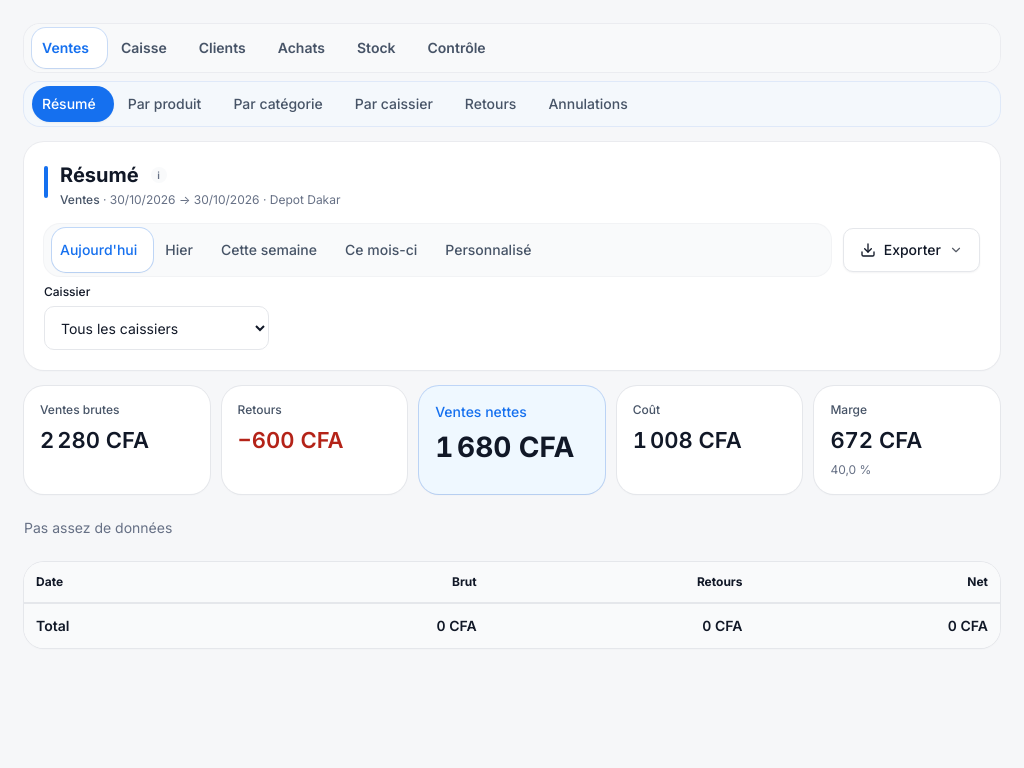
Test case: ReportsPage › labels customer outstanding as a global pooled balance when a depot is selected
Click the tab "Clients".
click(222, 48)  # box [185,28,260,68]
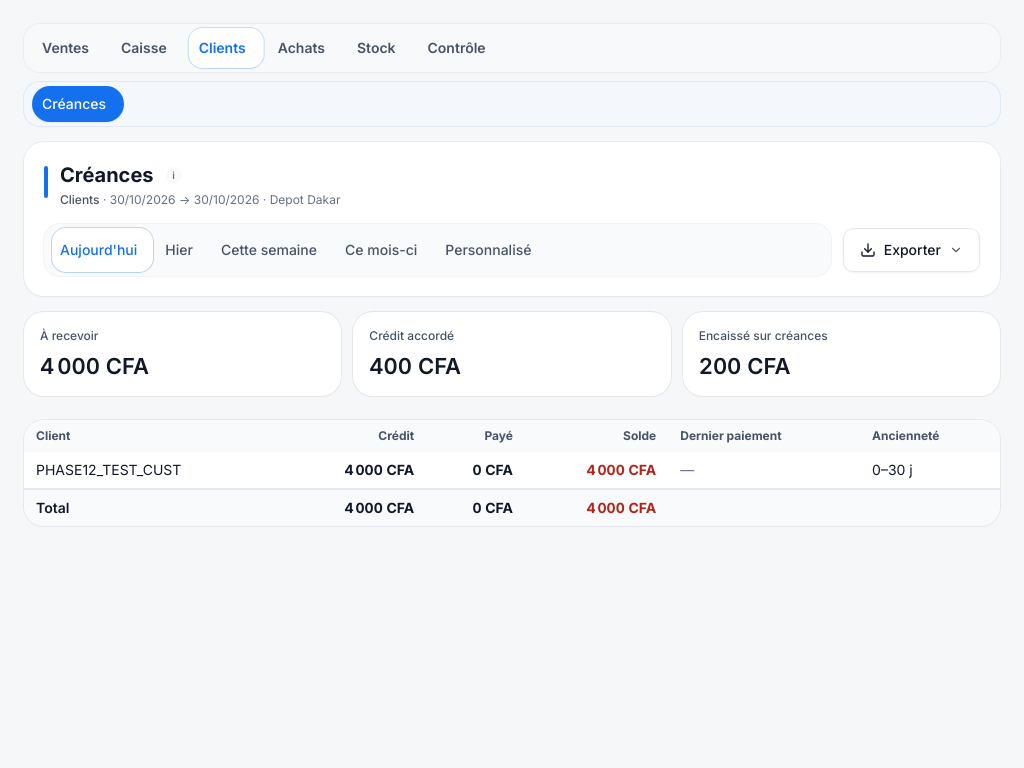
Now the text "À recevoir" is shown, box [40,328,98,344]
Now the text "Crédit accordé" is shown, box [369,328,454,343]
Now the text "Encaissé sur créances" is shown, box [699,328,828,343]
